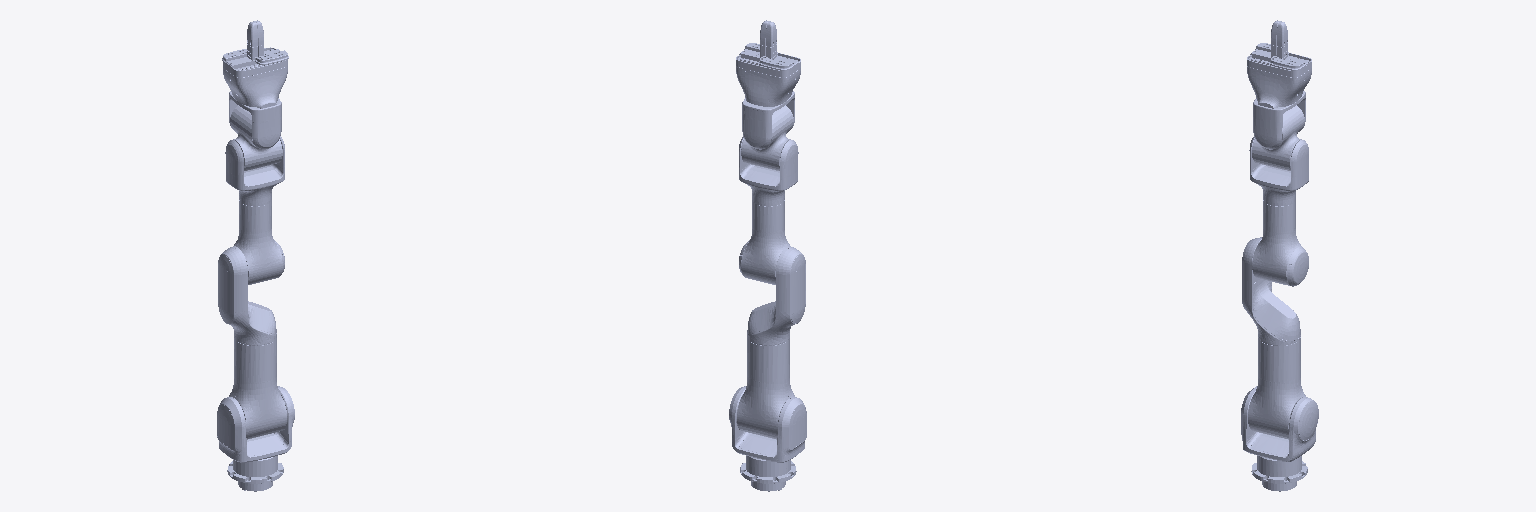
URDF robot description (ARM-LEFT-GR-0):
<?xml version="1.0" encoding="utf-8"?>
<!-- This URDF was automatically created by SolidWorks to URDF Exporter! Originally created by Stephen Brawner (brawner@gmail.com) 
     Commit Version: 1.6.0-4-g7f85cfe  Build Version: 1.6.7995.38578
     For more information, please see http://wiki.ros.org/sw_urdf_exporter -->
<robot
  name="ARM-LEFT-GR-0">
  <link
    name="left-link_arm_base">
    <inertial>
      <origin
        xyz="-2.956E-05 2.828E-07 0.021203"
        rpy="0 0 0" />
      <mass
        value="1.6812" />
      <inertia
        ixx="0.001511"
        ixy="-3.7785E-08"
        ixz="-2.2617E-06"
        iyy="0.0015126"
        iyz="-2.0148E-08"
        izz="0.0015409" />
    </inertial>
    <visual>
      <origin
        xyz="0 0 0"
        rpy="0 0 0" />
      <geometry>
        <mesh
          filename="package://ARM-LEFT-GR-0/meshes/left-link_arm_base.STL" />
      </geometry>
      <material
        name="">
        <color
          rgba="0.79216 0.81961 0.93333 1" />
      </material>
    </visual>
    <collision>
      <origin
        xyz="0 0 0"
        rpy="0 0 0" />
      <geometry>
        <mesh
          filename="package://ARM-LEFT-GR-0/meshes/left-link_arm_base.STL" />
      </geometry>
    </collision>
  </link>
  <link
    name="left-link_arm_1">
    <inertial>
      <origin
        xyz="-0.00116993022229119 1.32073305070257E-07 0.0438820960921235"
        rpy="0 0 0" />
      <mass
        value="0.534179500198902" />
      <inertia
        ixx="0.000943937540442469"
        ixy="5.09696627831606E-09"
        ixz="-6.94835977639922E-05"
        iyy="0.00192561136598586"
        iyz="4.5884006166236E-09"
        izz="0.00162394403177413" />
    </inertial>
    <visual>
      <origin
        xyz="0 0 0"
        rpy="0 0 0" />
      <geometry>
        <mesh
          filename="package://ARM-LEFT-GR-0/meshes/left-link_arm_1.STL" />
      </geometry>
      <material
        name="">
        <color
          rgba="0.792156862745098 0.819607843137255 0.933333333333333 1" />
      </material>
    </visual>
    <collision>
      <origin
        xyz="0 0 0"
        rpy="0 0 0" />
      <geometry>
        <mesh
          filename="package://ARM-LEFT-GR-0/meshes/left-link_arm_1.STL" />
      </geometry>
    </collision>
  </link>
  <joint
    name="left-joint_arm_1"
    type="revolute">
    <origin
      xyz="0 0 0.048"
      rpy="0 0 0" />
    <parent
      link="left-link_arm_base" />
    <child
      link="left-link_arm_1" />
    <axis
      xyz="0 0 1" />
    <limit
      lower="-3.14"
      upper="3.14"
      effort="100"
      velocity="1" />
  </joint>
  <link
    name="left-link_arm_2">
    <inertial>
      <origin
        xyz="1.4936E-07 0.055317 0.00024968"
        rpy="0 0 0" />
      <mass
        value="1.2991" />
      <inertia
        ixx="0.0052388"
        ixy="-4.4739E-09"
        ixz="-2.5077E-10"
        iyy="0.001368"
        iyz="1.1355E-08"
        izz="0.0051498" />
    </inertial>
    <visual>
      <origin
        xyz="0 0 0"
        rpy="0 0 0" />
      <geometry>
        <mesh
          filename="package://ARM-LEFT-GR-0/meshes/left-link_arm_2.STL" />
      </geometry>
      <material
        name="">
        <color
          rgba="0.79216 0.81961 0.93333 1" />
      </material>
    </visual>
    <collision>
      <origin
        xyz="0 0 0"
        rpy="0 0 0" />
      <geometry>
        <mesh
          filename="package://ARM-LEFT-GR-0/meshes/left-link_arm_2.STL" />
      </geometry>
    </collision>
  </link>
  <joint
    name="left-joint_arm_2"
    type="revolute">
    <origin
      xyz="0 0 0.077"
      rpy="1.5708 0 -1.5708" />
    <parent
      link="left-link_arm_1" />
    <child
      link="left-link_arm_2" />
    <axis
      xyz="0 0 1" />
    <limit
      lower="-3.14"
      upper="3.14"
      effort="100"
      velocity="1" />
  </joint>
  <link
    name="left-link_arm_3">
    <inertial>
      <origin
        xyz="-0.028391 5.9153E-07 0.07263"
        rpy="0 0 0" />
      <mass
        value="0.65629" />
      <inertia
        ixx="0.0021459"
        ixy="9.3126E-09"
        ixz="0.00070546"
        iyy="0.0024303"
        iyz="-1.6816E-09"
        izz="0.000793" />
    </inertial>
    <visual>
      <origin
        xyz="0 0 0"
        rpy="0 0 0" />
      <geometry>
        <mesh
          filename="package://ARM-LEFT-GR-0/meshes/left-link_arm_3.STL" />
      </geometry>
      <material
        name="">
        <color
          rgba="0.79216 0.81961 0.93333 1" />
      </material>
    </visual>
    <collision>
      <origin
        xyz="0 0 0"
        rpy="0 0 0" />
      <geometry>
        <mesh
          filename="package://ARM-LEFT-GR-0/meshes/left-link_arm_3.STL" />
      </geometry>
    </collision>
  </link>
  <joint
    name="left-joint_arm_3"
    type="revolute">
    <origin
      xyz="0 0.166 0.00025012"
      rpy="0.44871 1.5708 2.0195" />
    <parent
      link="left-link_arm_2" />
    <child
      link="left-link_arm_3" />
    <axis
      xyz="0 0 1" />
    <limit
      lower="-1.91"
      upper="1.91"
      effort="100"
      velocity="1" />
  </joint>
  <link
    name="left-link_arm_4">
    <inertial>
      <origin
        xyz="3.8823E-07 0.035384 -0.0029086"
        rpy="0 0 0" />
      <mass
        value="0.77877" />
      <inertia
        ixx="0.0021294"
        ixy="2.4752E-08"
        ixz="1.1284E-08"
        iyy="0.00065445"
        iyz="-7.9354E-05"
        izz="0.0020291" />
    </inertial>
    <visual>
      <origin
        xyz="0 0 0"
        rpy="0 0 0" />
      <geometry>
        <mesh
          filename="package://ARM-LEFT-GR-0/meshes/left-link_arm_4.STL" />
      </geometry>
      <material
        name="">
        <color
          rgba="0.79216 0.81961 0.93333 1" />
      </material>
    </visual>
    <collision>
      <origin
        xyz="0 0 0"
        rpy="0 0 0" />
      <geometry>
        <mesh
          filename="package://ARM-LEFT-GR-0/meshes/left-link_arm_4.STL" />
      </geometry>
    </collision>
  </link>
  <joint
    name="left-joint_arm_4"
    type="revolute">
    <origin
      xyz="0 0 0.1615"
      rpy="1.5709 0 -1.5708" />
    <parent
      link="left-link_arm_3" />
    <child
      link="left-link_arm_4" />
    <axis
      xyz="0 0 1" />
    <limit
      lower="-2.61"
      upper="2.61"
      effort="100"
      velocity="1" />
  </joint>
  <link
    name="left-link_arm_5">
    <inertial>
      <origin
        xyz="0.0003459 2.9741E-06 0.048731"
        rpy="0 0 0" />
      <mass
        value="0.37078" />
      <inertia
        ixx="0.00046921"
        ixy="8.7379E-09"
        ixz="-7.0508E-06"
        iyy="0.00074252"
        iyz="-9.1959E-09"
        izz="0.00050205" />
    </inertial>
    <visual>
      <origin
        xyz="0 0 0"
        rpy="0 0 0" />
      <geometry>
        <mesh
          filename="package://ARM-LEFT-GR-0/meshes/left-link_arm_5.STL" />
      </geometry>
      <material
        name="">
        <color
          rgba="0.79216 0.81961 0.93333 1" />
      </material>
    </visual>
    <collision>
      <origin
        xyz="0 0 0"
        rpy="0 0 0" />
      <geometry>
        <mesh
          filename="package://ARM-LEFT-GR-0/meshes/left-link_arm_5.STL" />
      </geometry>
    </collision>
  </link>
  <joint
    name="left-joint_arm_5"
    type="revolute">
    <origin
      xyz="0 0.135 1.0218E-05"
      rpy="-1.5708 1.5708 0" />
    <parent
      link="left-link_arm_4" />
    <child
      link="left-link_arm_5" />
    <axis
      xyz="0 0 1" />
    <limit
      lower="-3.14"
      upper="3.14"
      effort="100"
      velocity="1" />
  </joint>
  <link
    name="left-link_arm_6">
    <inertial>
      <origin
        xyz="-6.183E-06 0.028 1.0403E-05"
        rpy="0 0 0" />
      <mass
        value="0.59195" />
      <inertia
        ixx="0.00088918"
        ixy="9.6939E-08"
        ixz="-7.5246E-10"
        iyy="0.00053422"
        iyz="1.5048E-08"
        izz="0.00088918" />
    </inertial>
    <visual>
      <origin
        xyz="0 0 0"
        rpy="0 0 0" />
      <geometry>
        <mesh
          filename="package://ARM-LEFT-GR-0/meshes/left-link_arm_6.STL" />
      </geometry>
      <material
        name="">
        <color
          rgba="0.79216 0.81961 0.93333 1" />
      </material>
    </visual>
    <collision>
      <origin
        xyz="0 0 0"
        rpy="0 0 0" />
      <geometry>
        <mesh
          filename="package://ARM-LEFT-GR-0/meshes/left-link_arm_6.STL" />
      </geometry>
    </collision>
  </link>
  <joint
    name="left-joint_arm_6"
    type="revolute">
    <origin
      xyz="0 0 0.105"
      rpy="1.5708 0.00018358 -1.5708" />
    <parent
      link="left-link_arm_5" />
    <child
      link="left-link_arm_6" />
    <axis
      xyz="0 0 1" />
    <limit
      lower="-1.51"
      upper="1.51"
      effort="100"
      velocity="1" />
  </joint>
  <link
    name="left-link_arm_7">
    <inertial>
      <origin
        xyz="0.026806 5.5366E-06 0.003448"
        rpy="0 0 0" />
      <mass
        value="0.16706" />
      <inertia
        ixx="0.00037043"
        ixy="-1.8393E-08"
        ixz="1.4512E-05"
        iyy="0.00043484"
        iyz="1.7379E-09"
        izz="0.00016897" />
    </inertial>
    <visual>
      <origin
        xyz="0 0 0"
        rpy="0 0 0" />
      <geometry>
        <mesh
          filename="package://ARM-LEFT-GR-0/meshes/left-link_arm_7.STL" />
      </geometry>
      <material
        name="">
        <color
          rgba="0.79216 0.81961 0.93333 1" />
      </material>
    </visual>
    <collision>
      <origin
        xyz="0 0 0"
        rpy="0 0 0" />
      <geometry>
        <mesh
          filename="package://ARM-LEFT-GR-0/meshes/left-link_arm_7.STL" />
      </geometry>
    </collision>
  </link>
  <joint
    name="left-joint_arm_7"
    type="revolute">
    <origin
      xyz="0 0.056001 0"
      rpy="1.5708 0.00012794 1.571" />
    <parent
      link="left-link_arm_6" />
    <child
      link="left-link_arm_7" />
    <axis
      xyz="0 0 -1" />
    <limit
      lower="-1.51"
      upper="1.51"
      effort="100"
      velocity="1" />
  </joint>
  <link
    name="left-link_gripper_base">
    <inertial>
      <origin
        xyz="-2.0646E-06 -0.00034748 0.045721"
        rpy="0 0 0" />
      <mass
        value="0.57392" />
      <inertia
        ixx="0.00053521"
        ixy="1.5106E-07"
        ixz="7.7662E-08"
        iyy="0.00080086"
        iyz="-7.8658E-06"
        izz="0.00081476" />
    </inertial>
    <visual>
      <origin
        xyz="0 0 0"
        rpy="0 0 0" />
      <geometry>
        <mesh
          filename="package://ARM-LEFT-GR-0/meshes/left-link_gripper_base.STL" />
      </geometry>
      <material
        name="">
        <color
          rgba="0.79216 0.81961 0.93333 1" />
      </material>
    </visual>
    <collision>
      <origin
        xyz="0 0 0"
        rpy="0 0 0" />
      <geometry>
        <mesh
          filename="package://ARM-LEFT-GR-0/meshes/left-link_gripper_base.STL" />
      </geometry>
    </collision>
  </link>
  <joint
    name="left-joint_gripper_base"
    type="fixed">
    <origin
      xyz="0.061 0 -4.2996E-05"
      rpy="-1.5708 0 -1.5707" />
    <parent
      link="left-link_arm_7" />
    <child
      link="left-link_gripper_base" />
    <axis
      xyz="0 0 0" />
  </joint>
  <link
    name="left-link_gripper_finger_1">
    <inertial>
      <origin
        xyz="0.019238 -0.010462 0.0063859"
        rpy="0 0 0" />
      <mass
        value="0.030889" />
      <inertia
        ixx="1.9625E-05"
        ixy="5.0785E-06"
        ixz="7.699E-06"
        iyy="2.6979E-05"
        iyz="-5.932E-06"
        izz="1.7644E-05" />
    </inertial>
    <visual>
      <origin
        xyz="0 0 0"
        rpy="0 0 0" />
      <geometry>
        <mesh
          filename="package://ARM-LEFT-GR-0/meshes/left-link_gripper_finger_1.STL" />
      </geometry>
      <material
        name="">
        <color
          rgba="0.79216 0.81961 0.93333 1" />
      </material>
    </visual>
    <collision>
      <origin
        xyz="0 0 0"
        rpy="0 0 0" />
      <geometry>
        <mesh
          filename="package://ARM-LEFT-GR-0/meshes/left-link_gripper_finger_1.STL" />
      </geometry>
    </collision>
  </link>
  <joint
    name="left-joint_gripper_finger_1"
    type="prismatic">
    <origin
      xyz="0.0041878 -0.021901 0.0812"
      rpy="-1.5708 -1.5708 -1.5714" />
    <parent
      link="left-link_gripper_base" />
    <child
      link="left-link_gripper_finger_1" />
    <axis
      xyz="0 0 -1" />
    <limit
      lower="0"
      upper="0.05"
      effort="100"
      velocity="1" />
  </joint>
  <link
    name="left-link_gripper_finger_2">
    <inertial>
      <origin
        xyz="0.019238 -0.010492 0.0063859"
        rpy="0 0 0" />
      <mass
        value="0.030889" />
      <inertia
        ixx="1.9624E-05"
        ixy="5.0781E-06"
        ixz="7.6992E-06"
        iyy="2.6979E-05"
        iyz="-5.9317E-06"
        izz="1.7644E-05" />
    </inertial>
    <visual>
      <origin
        xyz="0 0 0"
        rpy="0 0 0" />
      <geometry>
        <mesh
          filename="package://ARM-LEFT-GR-0/meshes/left-link_gripper_finger_2.STL" />
      </geometry>
      <material
        name="">
        <color
          rgba="0.79216 0.81961 0.93333 1" />
      </material>
    </visual>
    <collision>
      <origin
        xyz="0 0 0"
        rpy="0 0 0" />
      <geometry>
        <mesh
          filename="package://ARM-LEFT-GR-0/meshes/left-link_gripper_finger_2.STL" />
      </geometry>
    </collision>
  </link>
  <joint
    name="left-joint_gripper_finger_2"
    type="prismatic">
    <origin
      xyz="-0.0041878 0.021934 0.0812"
      rpy="2.4332 -1.5708 -2.4338" />
    <parent
      link="left-link_gripper_base" />
    <child
      link="left-link_gripper_finger_2" />
    <axis
      xyz="0 0 -1" />
    <limit
      lower="0"
      upper="0.05"
      effort="100"
      velocity="1" />
  </joint>
  <link
    name="left-link_ee_ft_sensor">
    <inertial>
      <origin
        xyz="0.00010802 0.00012731 0.0058754"
        rpy="0 0 0" />
      <mass
        value="0.062708" />
      <inertia
        ixx="1.8346E-05"
        ixy="2.8353E-08"
        ixz="-1.1593E-08"
        iyy="1.8467E-05"
        iyz="-5.8578E-08"
        izz="3.507E-05" />
    </inertial>
    <visual>
      <origin
        xyz="0 0 0"
        rpy="0 0 0" />
      <geometry>
        <mesh
          filename="package://ARM-LEFT-GR-0/meshes/left-link_ee_ft_sensor.STL" />
      </geometry>
      <material
        name="">
        <color
          rgba="0.86667 0.9098 1 1" />
      </material>
    </visual>
    <collision>
      <origin
        xyz="0 0 0"
        rpy="0 0 0" />
      <geometry>
        <mesh
          filename="package://ARM-LEFT-GR-0/meshes/left-link_ee_ft_sensor.STL" />
      </geometry>
    </collision>
  </link>
  <joint
    name="left-joint_ee_ft_sensor"
    type="fixed">
    <origin
      xyz="0.061 0 -4.2996E-05"
      rpy="-1.5708 0 -1.5707" />
    <parent
      link="left-link_arm_7" />
    <child
      link="left-link_ee_ft_sensor" />
    <axis
      xyz="0 0 0" />
  </joint>
</robot>

--- Facts derived from the render (not from the file) ---
Views: 3 orthographic renders of the robot side by side, from view 1: azimuth 30°, elevation 25°; view 2: azimuth 150°, elevation 25°; view 3: azimuth 330°, elevation 25°.
Robot: ARM-LEFT-GR-0 — 12 links, 11 joints (7 revolute, 2 prismatic, 2 fixed); root link left-link_arm_base; default pose: all joints at 0.
Visible links, largest first — view 1: left-link_arm_2, left-link_arm_3, left-link_arm_1, left-link_arm_4, left-link_gripper_base, left-link_arm_5, left-link_arm_6, left-link_arm_7, left-link_arm_base, left-link_gripper_finger_1; view 2: left-link_arm_2, left-link_arm_3, left-link_arm_1, left-link_arm_4, left-link_gripper_base, left-link_arm_5, left-link_arm_6, left-link_arm_7, left-link_arm_base; view 3: left-link_arm_2, left-link_arm_4, left-link_arm_3, left-link_arm_1, left-link_gripper_base, left-link_arm_5, left-link_arm_6, left-link_arm_base, left-link_arm_7.
Boxes of the visible links, x1,y1,x2,y2 form: left-link_arm_2: [229, 338, 286, 439]; left-link_arm_3: [218, 246, 276, 345]; left-link_arm_1: [217, 386, 294, 462]; left-link_arm_4: [234, 200, 284, 284]; left-link_gripper_base: [223, 47, 287, 108]; left-link_arm_5: [225, 136, 284, 206]; left-link_arm_6: [230, 105, 282, 170]; left-link_arm_7: [229, 91, 281, 149]; left-link_arm_base: [227, 456, 283, 491]; left-link_gripper_finger_1: [247, 21, 288, 65]; left-link_arm_2: [737, 338, 794, 439]; left-link_arm_3: [747, 246, 805, 345]; left-link_arm_1: [729, 386, 806, 462]; left-link_arm_4: [739, 200, 789, 284]; left-link_gripper_base: [736, 49, 800, 106]; left-link_arm_5: [739, 136, 798, 206]; left-link_arm_6: [741, 105, 793, 170]; left-link_arm_7: [742, 91, 794, 149]; left-link_arm_base: [740, 456, 796, 491]; left-link_arm_2: [1248, 337, 1305, 439]; left-link_arm_4: [1252, 200, 1308, 286]; left-link_arm_3: [1242, 237, 1300, 345]; left-link_arm_1: [1241, 386, 1318, 461]; left-link_gripper_base: [1247, 49, 1311, 108]; left-link_arm_5: [1249, 137, 1308, 206]; left-link_arm_6: [1252, 105, 1304, 170]; left-link_arm_base: [1251, 456, 1307, 491]; left-link_arm_7: [1253, 91, 1305, 149].
Size in the robot's own frame: 0.1419 by 0.1116 by 1 metres.
12 mesh visuals loaded from 12 distinct referenced files (12 binary STL).
